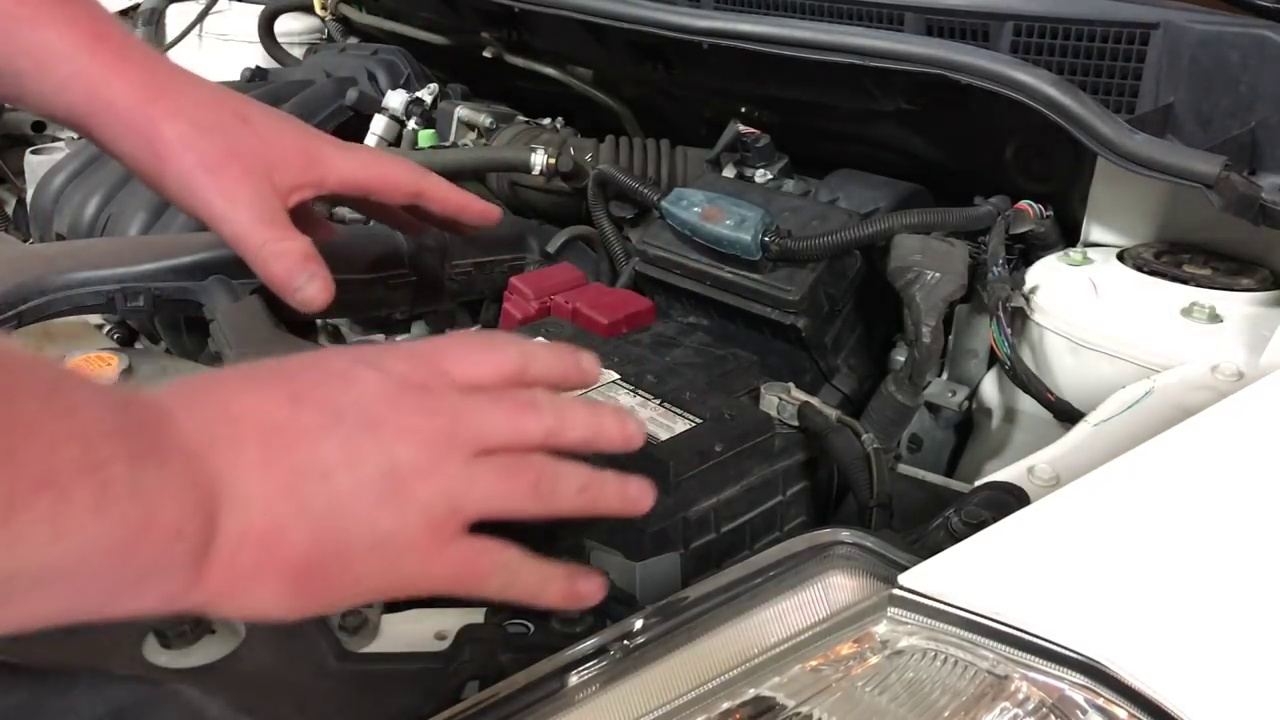battery: (448, 281, 817, 477)
neg_connected: (735, 361, 842, 446)
pos_connected: (488, 248, 651, 368)
